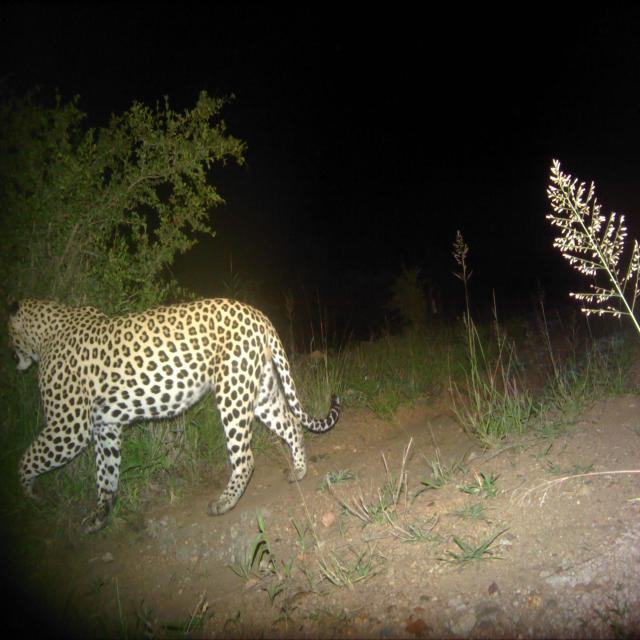Leopard: (2, 289, 351, 527)
